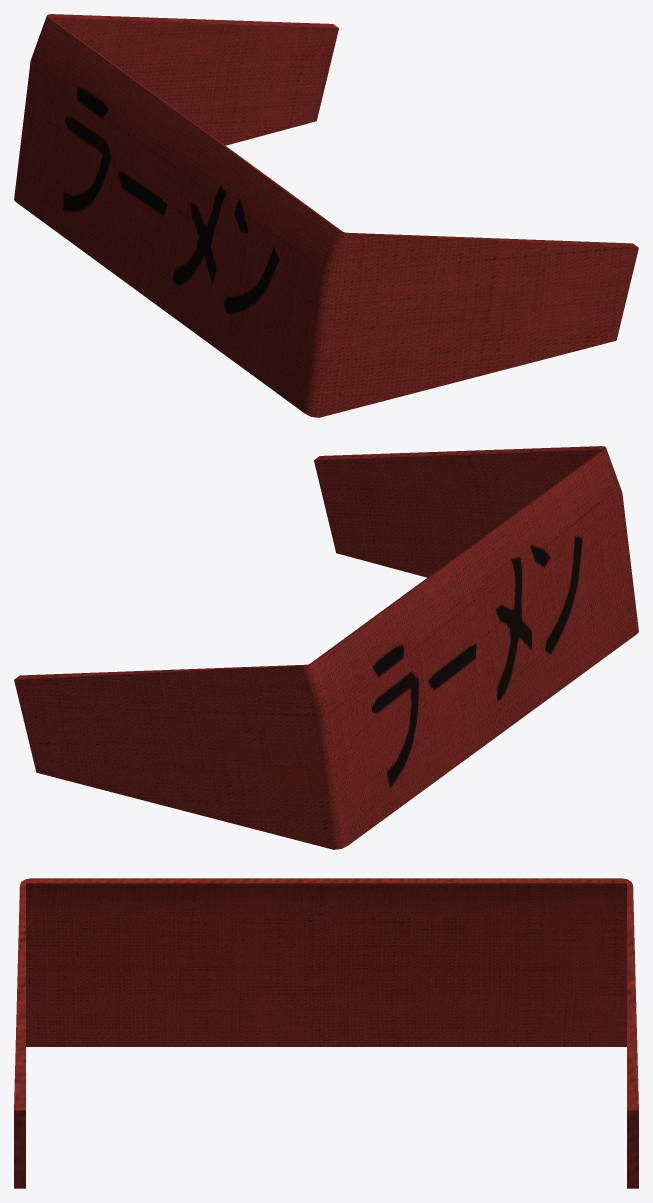
Rendered from stallBanner.fbx.
The picture shows the model from 3 angles, top to bottom: view 1: azimuth 30°, elevation 25°; view 2: azimuth 150°, elevation 25°; view 3: azimuth 270°, elevation 25°; orthographic projection. The views are drawn at different scales.
Parts seen in each view (by area): view 1: stallBanner; view 2: stallBanner; view 3: stallBanner.
Part boxes in pixels (x1,y1,x2,y2): stallBanner: (14,14,638,417); stallBanner: (14,446,638,849); stallBanner: (14,878,638,1188).
Size of the model in its own units: 897 by 470 by 1456.
